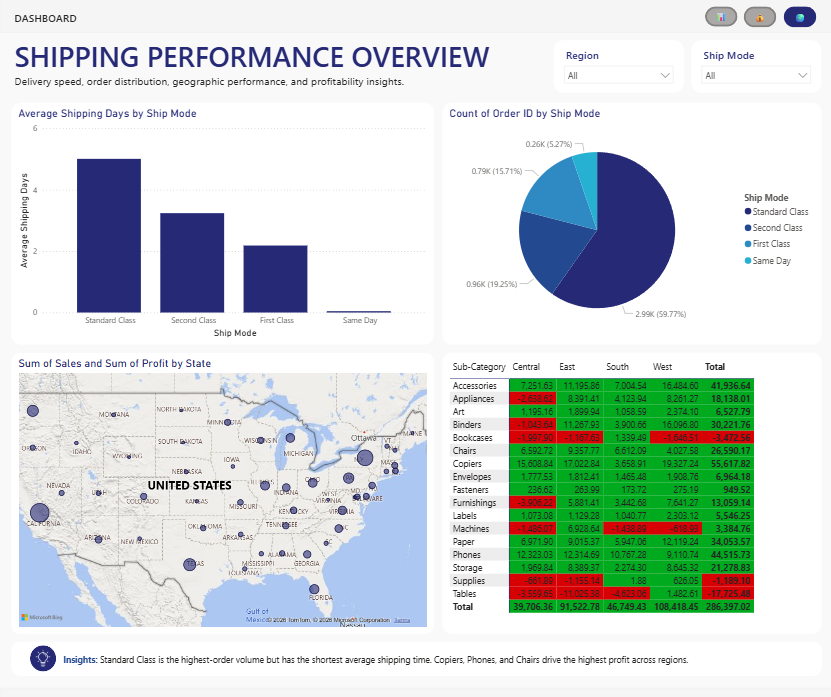

What the dashboard file says about the page in this screenshot:
{"tool":"powerbi","page":{"name":"Shipping & Operational Analysis","canvas":[1280,1080],"ordinal":2},"visuals":[{"type":"shape","box":[0,0,1280.3,52],"z":0},{"type":"textbox","box":[16.7,54.2,900,97.9],"z":1000},{"type":"group","id":"g1","title":"Group 1","box":[16.5,988.7,1247.3,53.2],"z":2000},{"type":"shape","box":[0,1059.8,1280.3,20.2],"z":3000},{"type":"lineStackedColumnComboChart","fields":{"Y":["Superstore.Average Shipping Days"],"Category":["Superstore.Ship Mode"]},"box":[16.5,160,650,372.4],"z":4000},{"type":"pieChart","fields":{"Category":["Superstore.Ship Mode"],"Y":["Count(Superstore.Order ID)"]},"box":[680.5,160,583.3,372.4],"z":5000},{"type":"shape","box":[16.5,988.7,1247.3,53.2],"z":5000,"group":"g1"},{"type":"map","fields":{"Size":["Sum(Superstore.Sales)"],"Category":["Superstore.State"]},"box":[16.5,545,650,433],"z":6000},{"type":"shape","box":[45.7,995.1,40.3,40.4],"z":6000,"group":"g1"},{"type":"pivotTable","fields":{"Rows":["Superstore.Sub-Category"],"Columns":["Superstore.Region"],"Values":["Sum(Superstore.Profit)"]},"box":[680,545,583.3,433],"z":7000},{"type":"image","box":[45.7,999.1,40.3,32.3],"z":7000,"group":"g1"},{"type":"actionButton","box":[1085.3,12,50,30.9],"z":8000},{"type":"textbox","box":[91.3,1001.8,1090.8,33.7],"z":8000,"group":"g1"},{"type":"actionButton","box":[1145,12,50,32],"z":9000},{"type":"actionButton","box":[1205,12,50,32],"z":10000},{"type":"textbox","box":[16.5,12.8,858.4,38.5],"z":11000},{"type":"slicer","fields":{"Values":["Superstore.Ship Mode"]},"box":[1064.2,64.2,199.6,80.7],"z":12000},{"type":"slicer","fields":{"Values":["Superstore.Region"]},"box":[851.7,64.2,199.6,80.7],"z":13000}]}

Visuals, with their boxes in screenshot pixels (x1, y1, x2, y2), scaled from the page's 1280x1080 canvas onto the 831x697 screenshot:
shape: [x1=0, y1=0, x2=830, y2=34]
textbox: [x1=11, y1=35, x2=595, y2=98]
"Group 1" group: [x1=11, y1=638, x2=820, y2=672]
shape: [x1=0, y1=684, x2=830, y2=696]
lineStackedColumnComboChart - Superstore.Average Shipping Days x Superstore.Ship Mode: [x1=11, y1=103, x2=433, y2=344]
pieChart - Superstore.Ship Mode x Count(Superstore.Order ID): [x1=442, y1=103, x2=820, y2=344]
shape: [x1=11, y1=638, x2=820, y2=672]
map - Sum(Superstore.Sales) x Superstore.State: [x1=11, y1=352, x2=433, y2=631]
shape: [x1=30, y1=642, x2=56, y2=668]
pivotTable - Superstore.Sub-Category x Superstore.Region: [x1=441, y1=352, x2=820, y2=631]
image: [x1=30, y1=645, x2=56, y2=666]
actionButton: [x1=705, y1=8, x2=737, y2=28]
textbox: [x1=59, y1=647, x2=767, y2=668]
actionButton: [x1=743, y1=8, x2=776, y2=28]
actionButton: [x1=782, y1=8, x2=815, y2=28]
textbox: [x1=11, y1=8, x2=568, y2=33]
slicer - Superstore.Ship Mode: [x1=691, y1=41, x2=820, y2=94]
slicer - Superstore.Region: [x1=553, y1=41, x2=683, y2=94]
